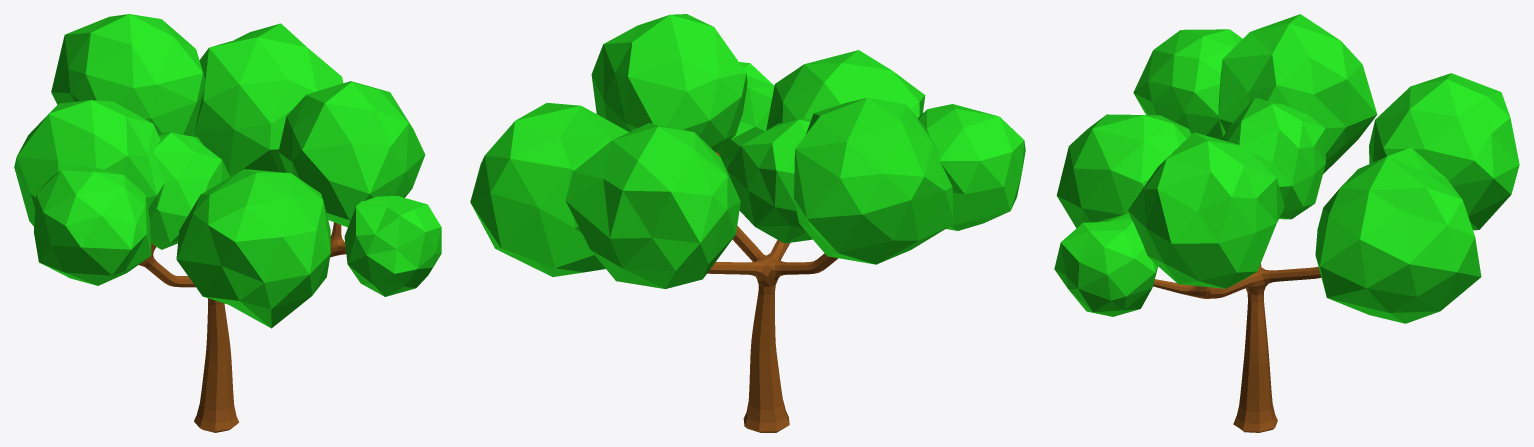
File: LowPolyTree.fbx
The picture shows the model from 3 angles, left to right: view 1: azimuth 30°, elevation 25°; view 2: azimuth 150°, elevation 25°; view 3: azimuth 270°, elevation 25°; orthographic projection. The views are drawn at different scales.
Parts seen in each view (by area): view 1: Cube; view 2: Cube; view 3: Cube.
Part boxes in pixels (x1,y1,x2,y2): Cube: (14, 14, 441, 432); Cube: (470, 14, 1025, 432); Cube: (1054, 14, 1519, 432).
Bounding box in the file's own units: 914 × 770 × 926.
